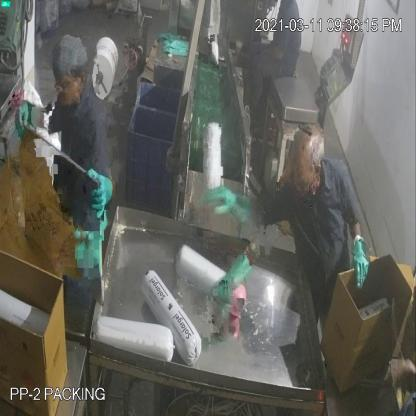glove: (204, 179, 253, 231), (347, 225, 374, 292), (84, 169, 112, 218)
